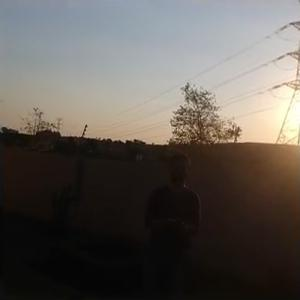follow: (137, 146, 203, 299)
